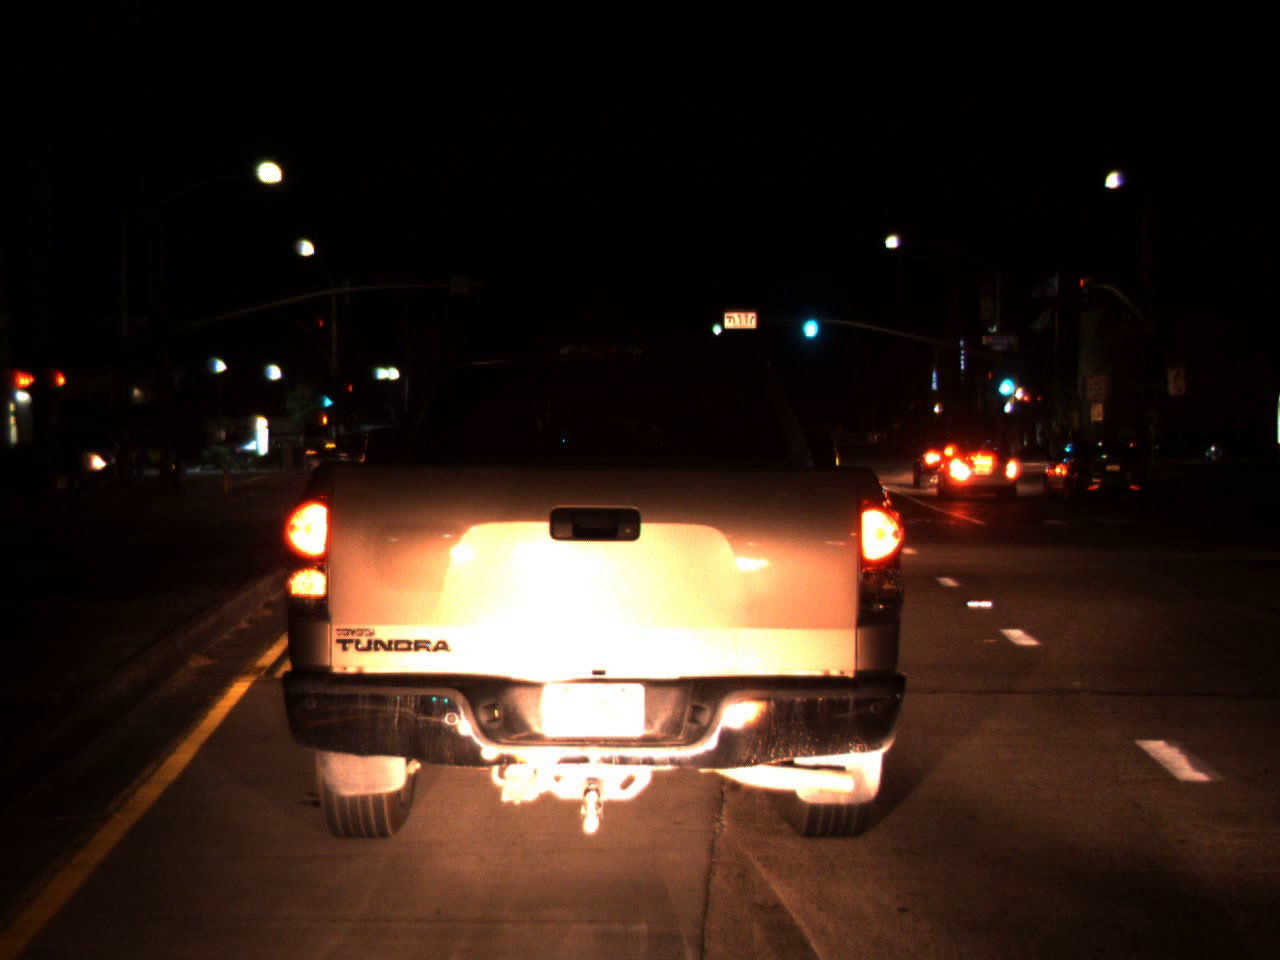go: (993, 357, 1018, 402), (797, 298, 820, 343), (321, 386, 335, 410), (708, 314, 722, 335)
